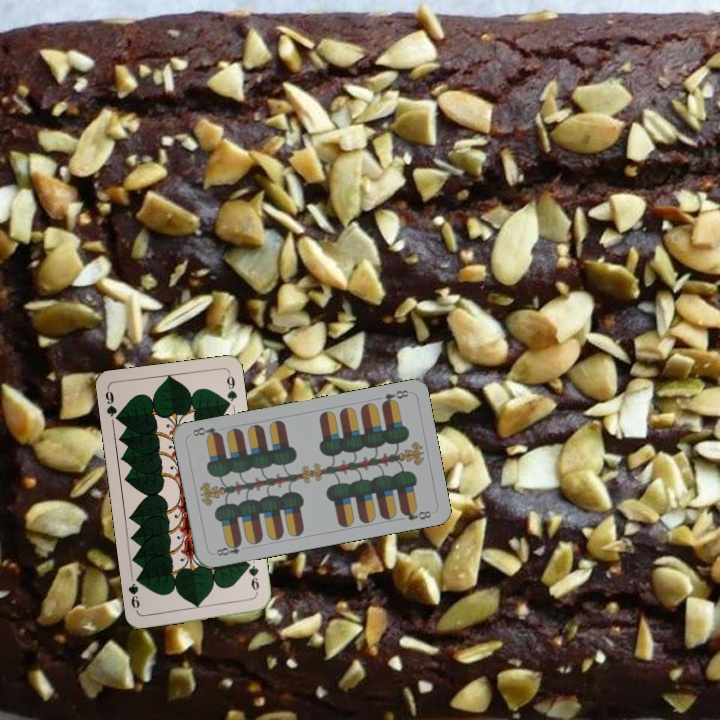E8: (377, 386, 411, 408), (212, 538, 244, 558)
G9: (101, 385, 123, 425), (243, 557, 262, 593)
